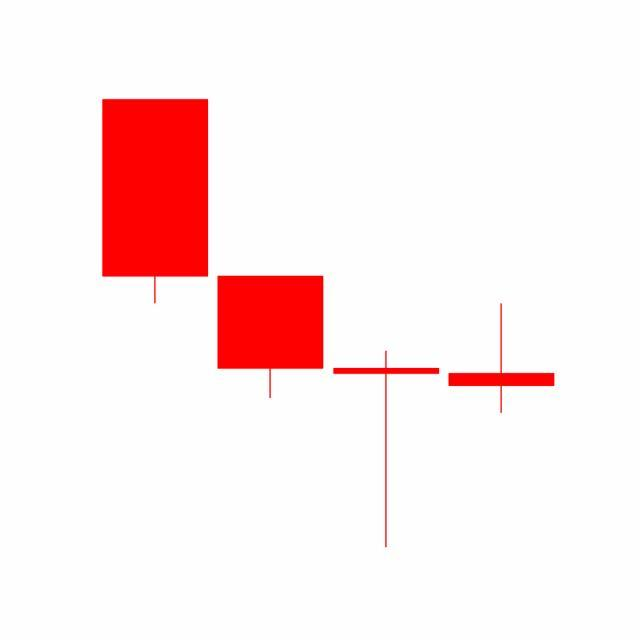Spinning Top: (444, 302, 560, 415)
